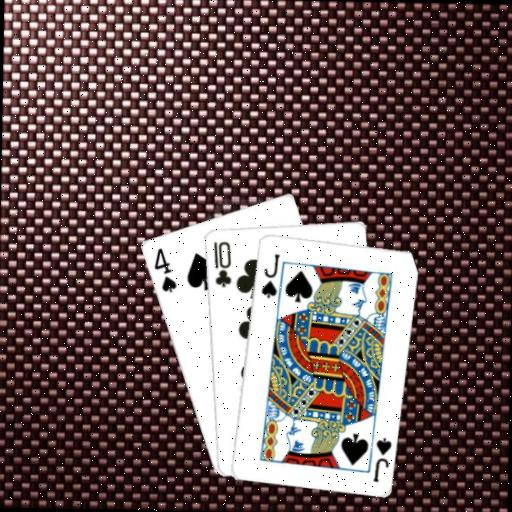10C: (209, 238, 233, 289)
4S: (151, 245, 179, 294)
JS: (257, 251, 281, 300), (370, 434, 393, 483)
